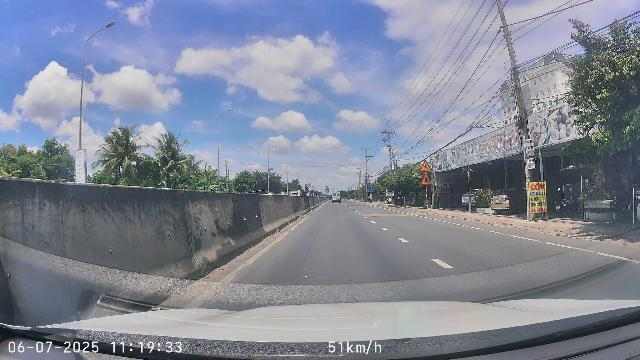207-giao-nhau-voi-duong-khong-uu-tien: (420, 174, 431, 185)
224-duong-nguoi-di-bo-cat-ngang: (420, 160, 431, 173)
